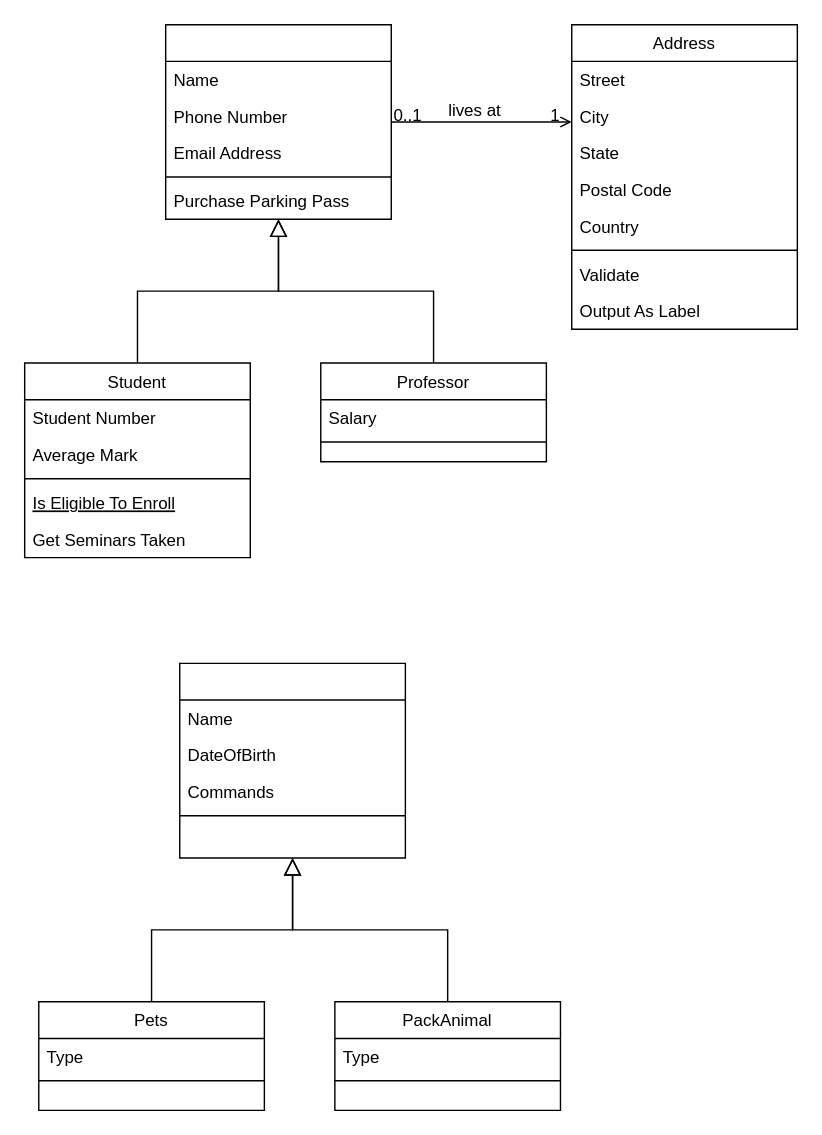
This 822x1135 diagram has some shape labels left out. The shapes that lost their labels are listed below. From the top down, each one's box as (x1, y1, x2, y2) in pixels, then its label:
(164, 23, 391, 219): Person
(178, 662, 405, 858): Animal
